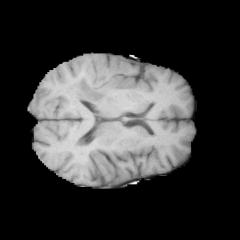glioma: (65, 54, 133, 104)
